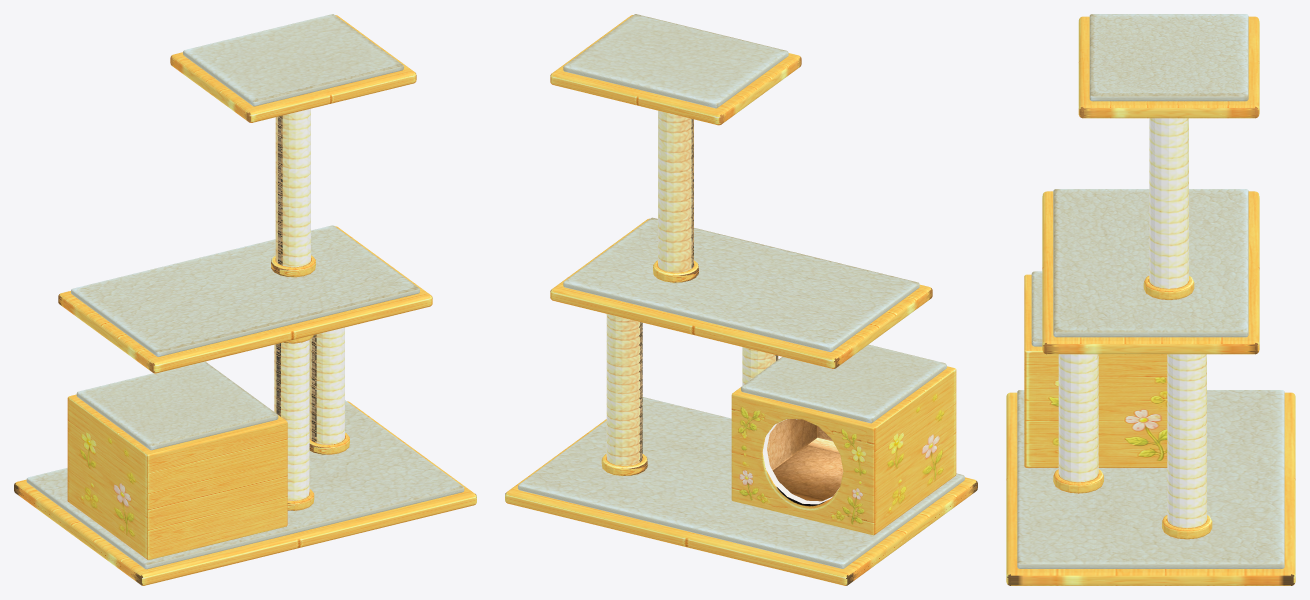
File: cat_tower_blue_01_muted_unlit.glb
3 renders of one model, left to right at view 1: azimuth 30°, elevation 25°; view 2: azimuth 150°, elevation 25°; view 3: azimuth 270°, elevation 25°, orthographic. The views are drawn at different scales.
Parts seen in each view (by area): view 1: cat_tower_mesh; view 2: cat_tower_mesh; view 3: cat_tower_mesh.
Part boxes in pixels (x1,y1,x2,y2): cat_tower_mesh: (14,14,476,585); cat_tower_mesh: (505,14,977,585); cat_tower_mesh: (1006,14,1295,585).
Size of the model in its own units: 2.4 by 2.88 by 1.6.
Materials: 25 (24 with a texture image).
